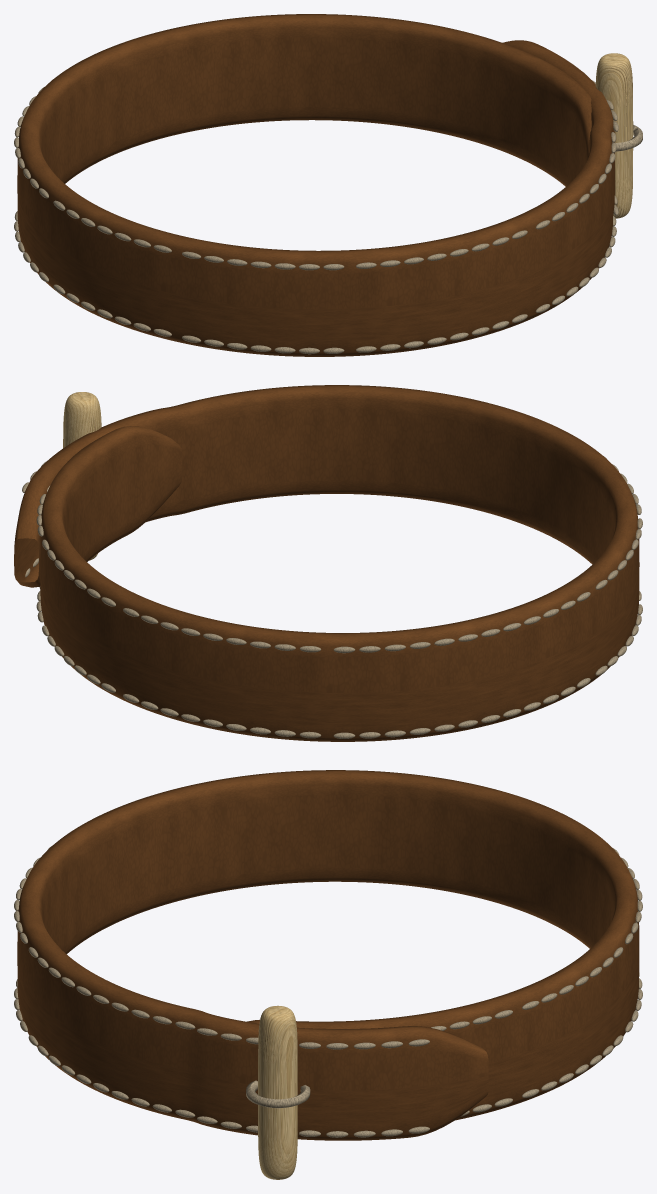
File: koniak.glb
3 renders of one model, top to bottom at view 1: azimuth 30°, elevation 25°; view 2: azimuth 150°, elevation 25°; view 3: azimuth 270°, elevation 25°, orthographic. The views are drawn at different scales.
Parts seen in each view (by area): view 1: pas_skory.001, bead_peg_1; view 2: pas_skory.001, bead_peg_1; view 3: pas_skory.001, bead_peg_1, petla.001.
Boxes of the visible parts, x1,y1,x2,y2 form: pas_skory.001: (17, 14, 614, 356); bead_peg_1: (595, 53, 633, 218); pas_skory.001: (14, 385, 639, 741); bead_peg_1: (63, 392, 101, 560); pas_skory.001: (17, 770, 639, 1140); bead_peg_1: (258, 1005, 297, 1179); petla.001: (246, 1080, 310, 1108).
Size of the model in its own units: 6.83 by 1.84 by 6.34.
3 materials, 3 textured.
